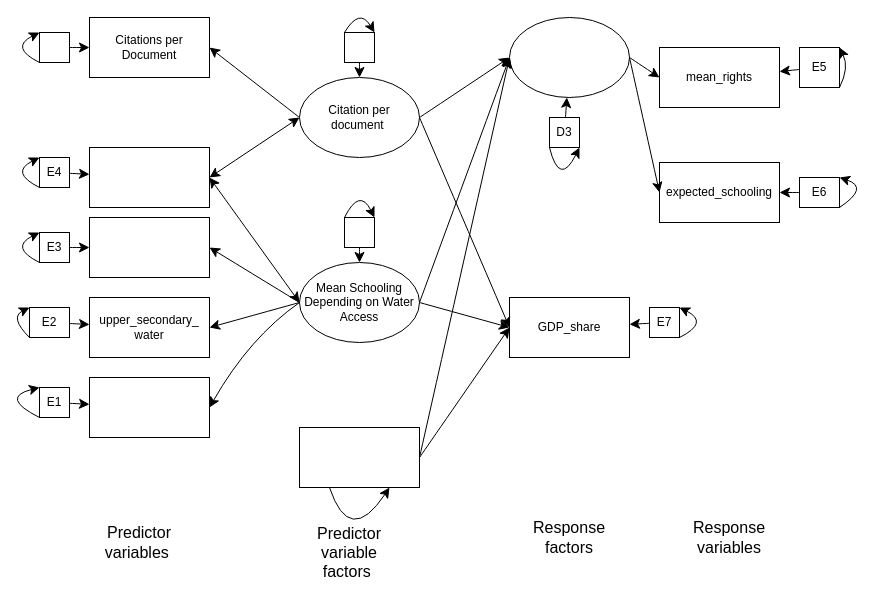
Some shapes in this 875 by 599 pixel diagram are drawn without their labels. Each missing label, with the box of its shape:
D1: (344, 32, 374, 62)
D2: (344, 216, 374, 248)
E8: (38, 32, 70, 62)
Human Development: (508, 16, 630, 98)
lower_secondary_ water: (88, 376, 210, 438)
mean_schooling: (88, 146, 210, 208)
population density: (298, 426, 420, 488)
primary_water: (88, 216, 210, 278)
